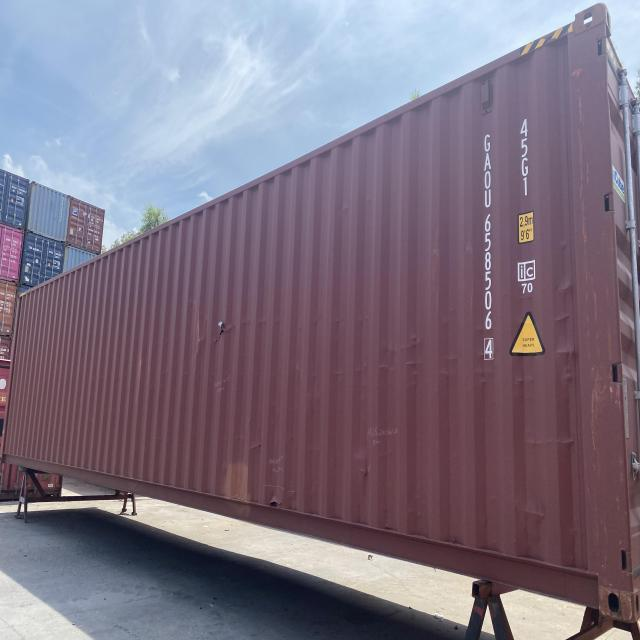hole: (215, 320, 233, 343), (269, 501, 280, 509)
